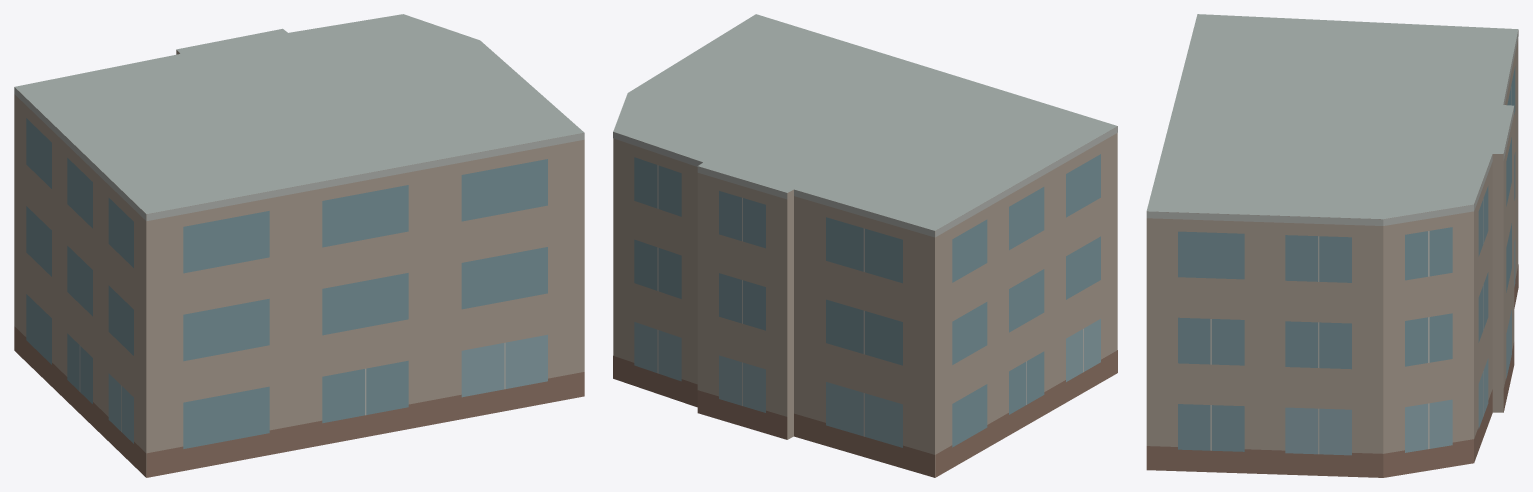
File: survey-upis-32598754.glb
The picture shows the model from 3 angles, left to right: view 1: azimuth 30°, elevation 25°; view 2: azimuth 150°, elevation 25°; view 3: azimuth 270°, elevation 25°; orthographic projection. The views are drawn at different scales.
Parts seen in each view (by area): view 1: survey-upis-32598754.tmp; view 2: survey-upis-32598754.tmp; view 3: survey-upis-32598754.tmp.
Part boxes in pixels (x1=…): survey-upis-32598754.tmp: x1=14, y1=14, x2=584, y2=477; survey-upis-32598754.tmp: x1=613, y1=14, x2=1117, y2=477; survey-upis-32598754.tmp: x1=1146, y1=14, x2=1518, y2=477.
Bounding box in the file's own units: 15.58 × 9.15 × 11.93.
